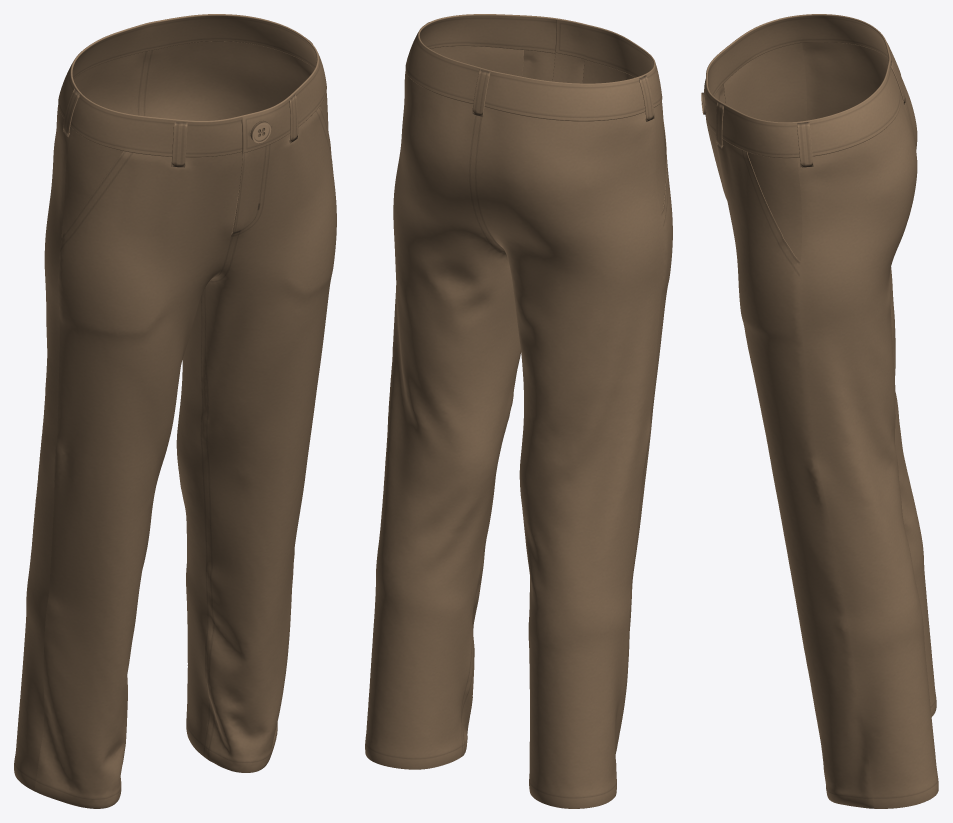
The model's file is best_pants_for_boys.glb.
3 renders of one model, left to right at view 1: azimuth 30°, elevation 25°; view 2: azimuth 150°, elevation 25°; view 3: azimuth 270°, elevation 25°, orthographic. The views are drawn at different scales.
Visible parts, largest first — view 1: Best Pants for Boys_W_Twill_98 Ctn 2Spa_260GSM_H_DF22018_FRO (×2); view 2: Best Pants for Boys_W_Twill_98 Ctn 2Spa_260GSM_H_DF22018_FRO (×2); view 3: Best Pants for Boys_W_Twill_98 Ctn 2Spa_260GSM_H_DF22018_FRO (×2).
Boxes of the visible parts, <box> form: Best Pants for Boys_W_Twill_98 Ctn 2Spa_260GSM_H_DF22018_FRO (×2): <box>14,14,336,808</box>; Best Pants for Boys_W_Twill_98 Ctn 2Spa_260GSM_H_DF22018_FRO (×2): <box>365,14,672,808</box>; Best Pants for Boys_W_Twill_98 Ctn 2Spa_260GSM_H_DF22018_FRO (×2): <box>704,14,938,808</box>.
Bounding box in the file's own units: 0.2942 × 0.7746 × 0.2368.
2 materials, 2 textured.
